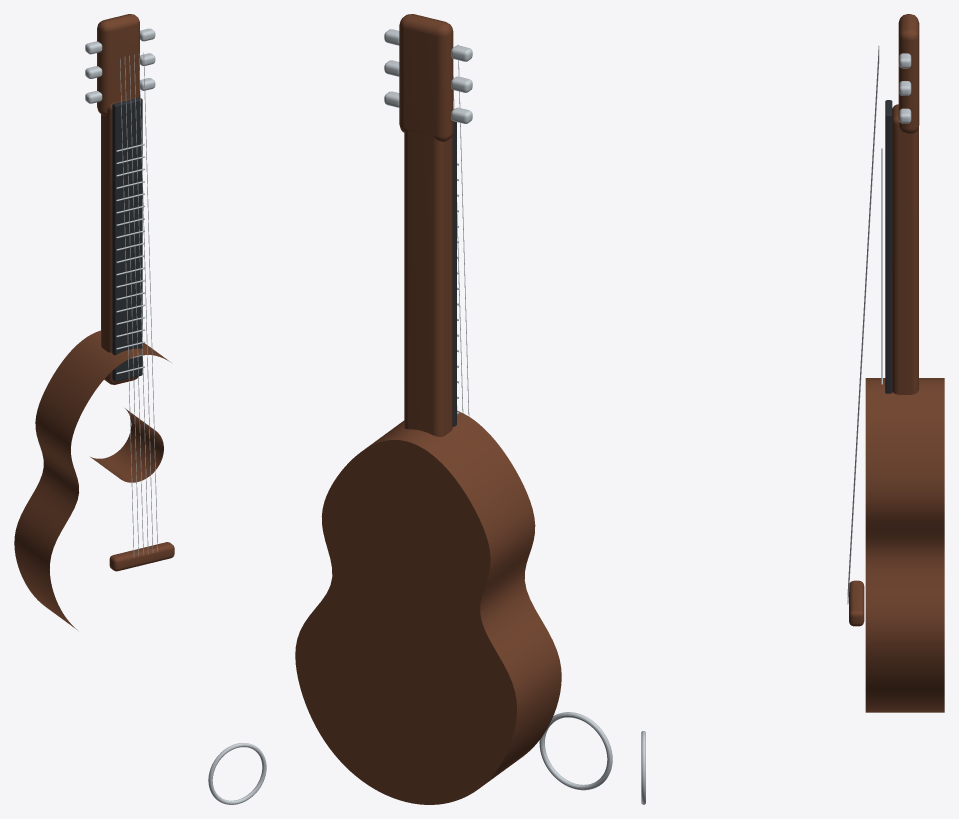
Rendered from guitar.glb.
3 views of the same model, side by side, from view 1: azimuth 30°, elevation 25°; view 2: azimuth 150°, elevation 25°; view 3: azimuth 270°, elevation 25° (orthographic). The views are drawn at different scales.
Visible parts, largest first — view 1: BoundResonatorSides, Fingerboard, Headstock, Neck, SoundholeInnerWall, Bridge, Rosette, String.005, String, String.002, String.001, String.003 (+1 smaller); view 2: Back, BoundResonatorSides, Neck, Headstock, Fingerboard, Rosette; view 3: BoundResonatorSides, Neck, Fingerboard, Headstock, String.005, Bridge.
Part boxes in pixels (box(x1,y1,x2,y2)): BoundResonatorSides: box(14, 330, 171, 629); Fingerboard: box(112, 97, 142, 381); Headstock: box(97, 14, 139, 115); Neck: box(101, 98, 138, 384); SoundholeInnerWall: box(90, 408, 163, 482); Bridge: box(109, 542, 174, 571); Rosette: box(208, 743, 266, 804); String.005: box(143, 52, 157, 551); String: box(120, 58, 134, 557); String.002: box(129, 55, 143, 554); String.001: box(124, 57, 138, 555); String.003: box(134, 54, 148, 553); Back: box(295, 440, 516, 804); BoundResonatorSides: box(364, 410, 561, 788); Neck: box(404, 130, 452, 436); Headstock: box(399, 14, 453, 141); Fingerboard: box(452, 121, 456, 426); Rosette: box(539, 712, 612, 790); BoundResonatorSides: box(865, 378, 944, 712); Neck: box(892, 104, 918, 394); Fingerboard: box(885, 100, 892, 393); Headstock: box(898, 14, 919, 134); String.005: box(847, 59, 879, 604); Bridge: box(849, 580, 864, 626).
Bounding box in the file's own units: 0.3732 × 1.41 × 0.499.
